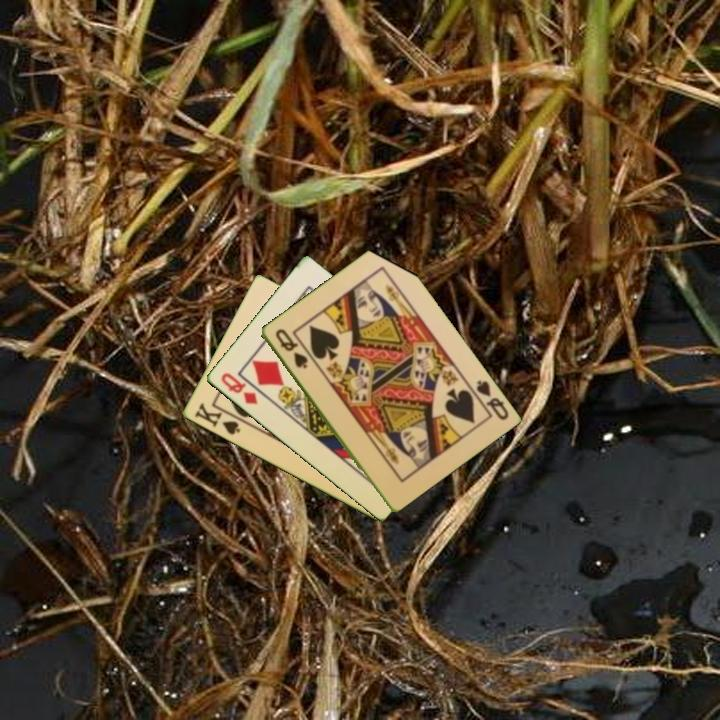Ks: (191, 399, 246, 438)
Qd: (217, 369, 260, 407)
Qs: (466, 376, 511, 423), (271, 325, 310, 372)
